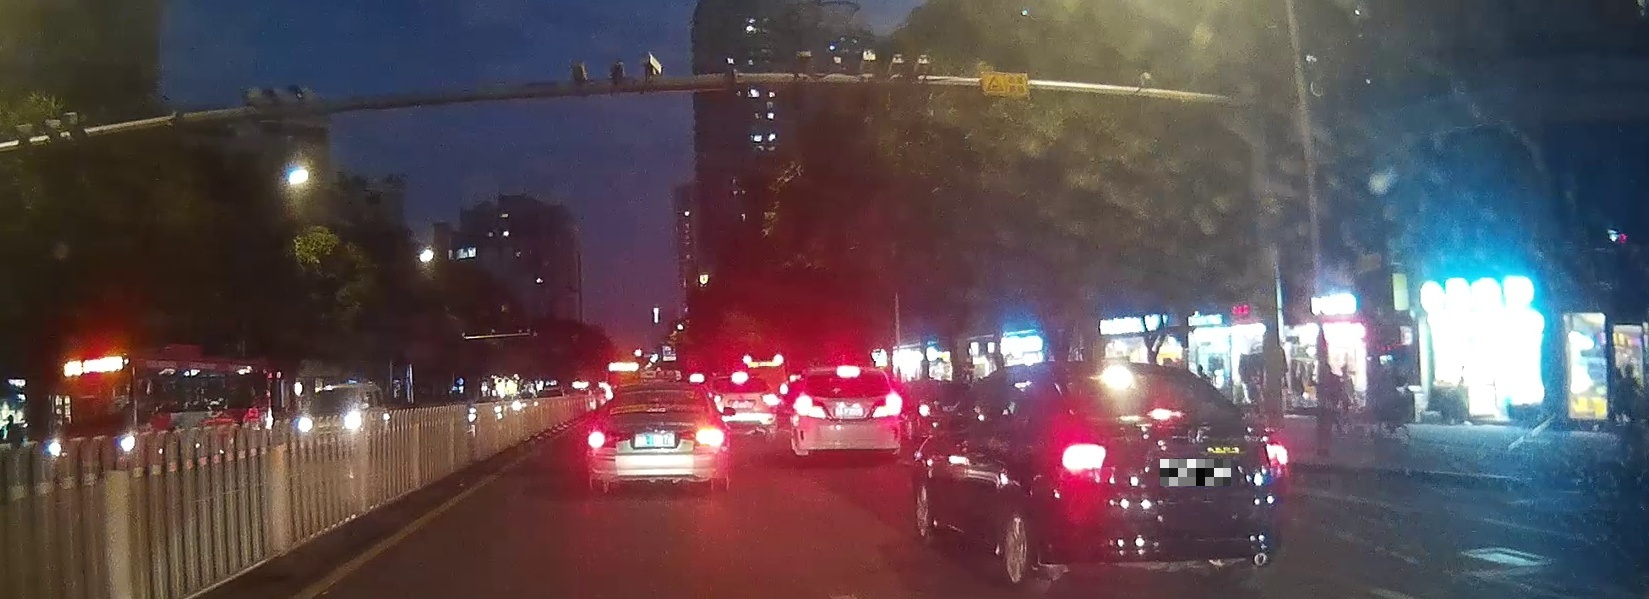L_light: (1060, 440, 1119, 486), (587, 421, 630, 449), (795, 394, 829, 418)
R_light: (1257, 430, 1288, 476), (679, 417, 728, 447), (871, 394, 901, 418)
T_light: (1149, 409, 1185, 420), (837, 367, 860, 377), (647, 396, 663, 402)
night-brake: (1042, 360, 1289, 593), (793, 365, 901, 461)
night-right: (586, 381, 729, 495)
plate_1: (1160, 459, 1231, 486)
